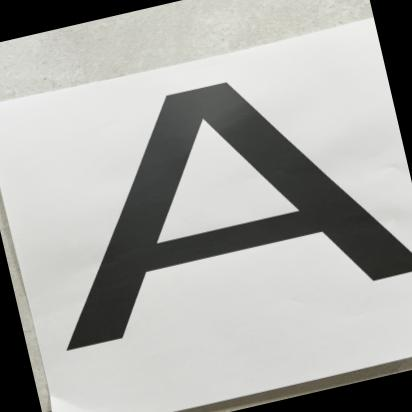seat: (24, 25, 412, 382)
